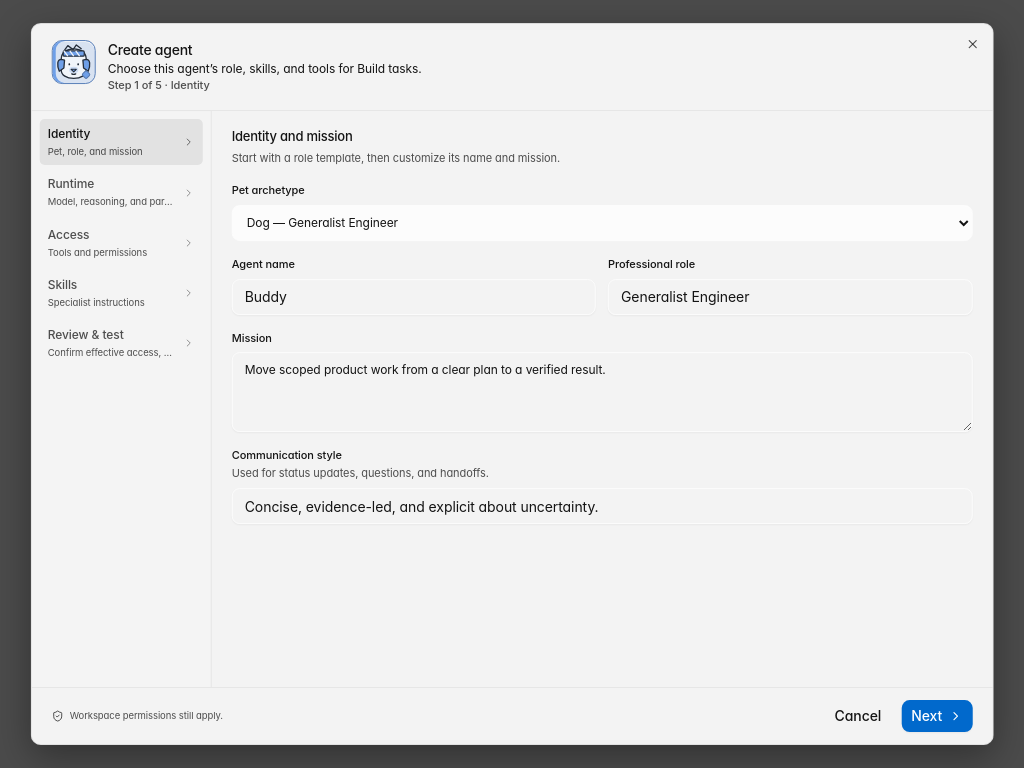
Test: Agent creation: a guided five-step flow › shows effective permissions and a test prompt on the review step, not a bare Next
Click the button "Next" at (937, 716), box [901,700,972,732]
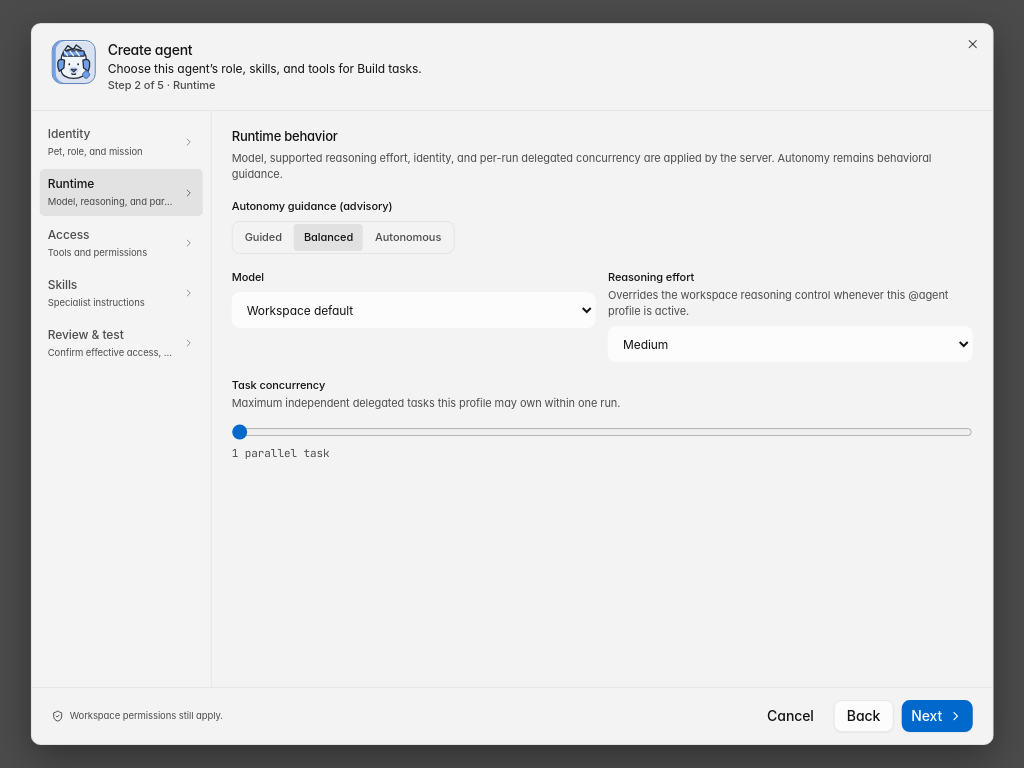
Click the button "Next" at (937, 716), box [901,700,972,732]
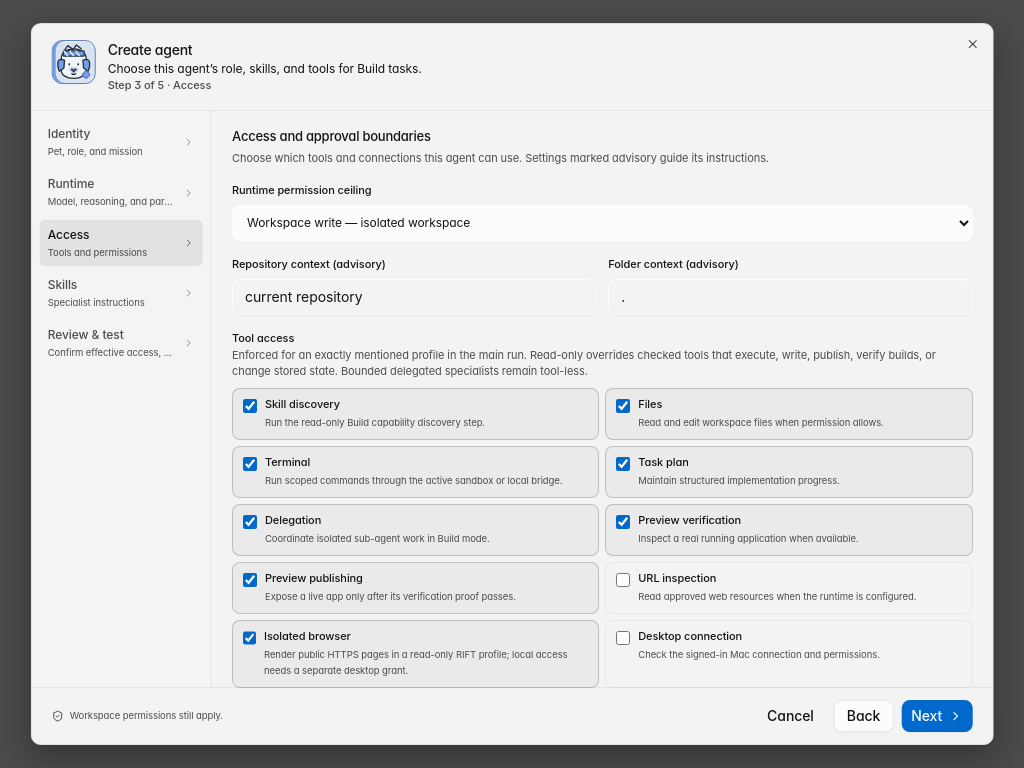
Click the button "Next" at (937, 716), box [901,700,972,732]
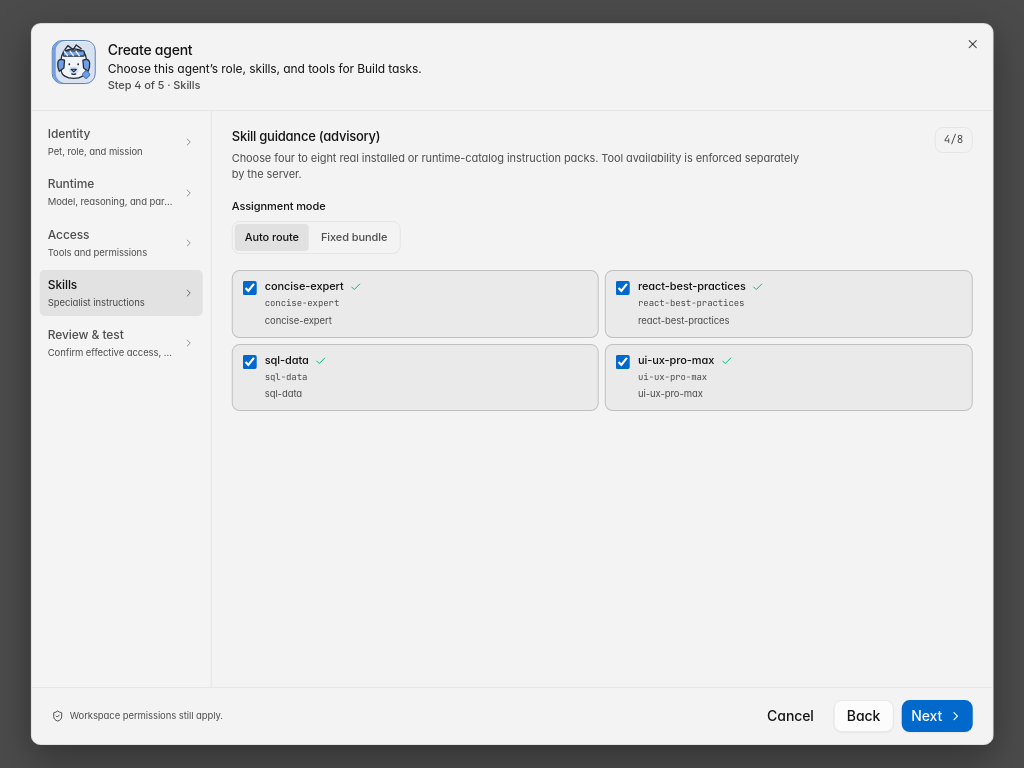
Click the button "Next" at (937, 716), box [901,700,972,732]
(page scrolled)
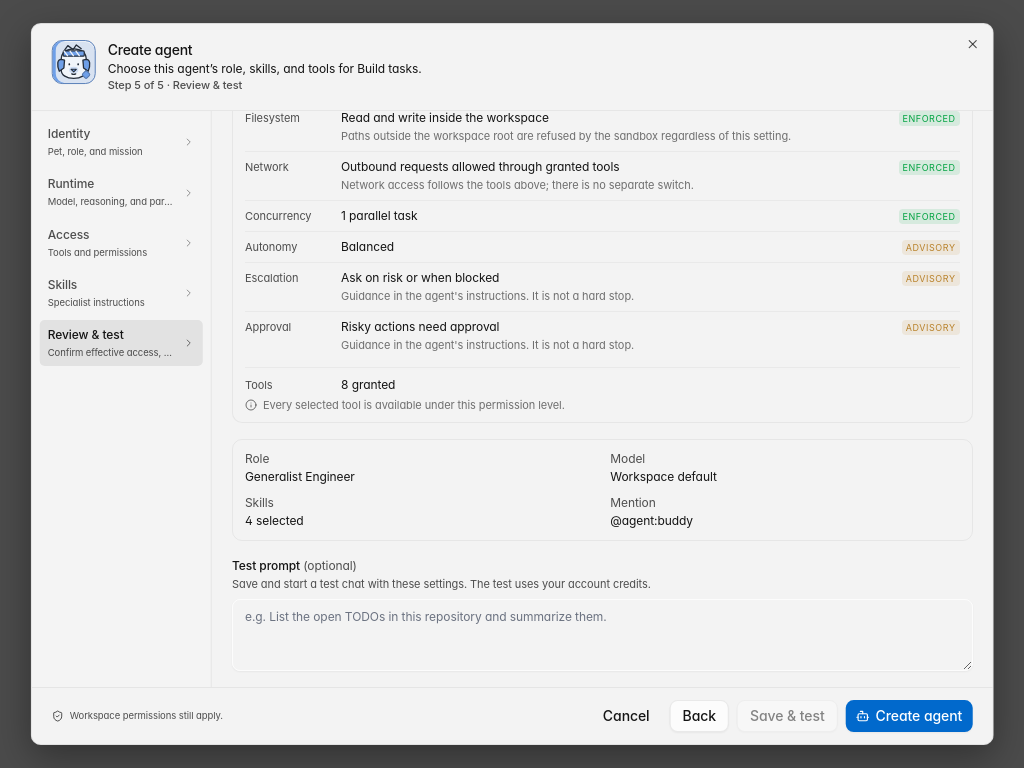
Expected: the text "Step 5 of 5 · Review & test" is shown, [108,78,242,92]
Expected: the element named "Effective permissions" is shown, [232,111,972,424]
Expected: the text box labelled "Test prompt (optional)" is shown, [232,599,972,671]
